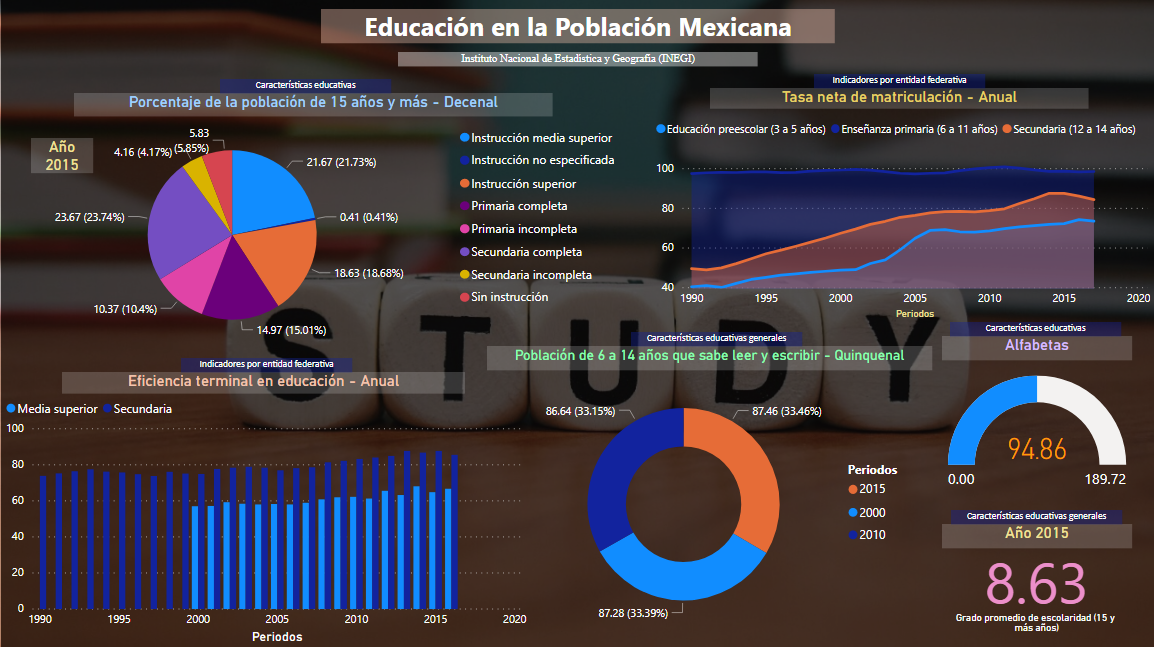

The dashboard page shown, as its layout file describes it:
{"tool":"powerbi","page":{"name":"Educacion","canvas":[1280,720],"ordinal":0},"visuals":[{"type":"textbox","title":"Porcentaje de la población de 15 años y más - Decenal","box":[81,104.3,531.4,25.5],"z":0},{"type":"textbox","title":"Instituto Nacional de Estadística y Geografía (INEGI)","box":[440.4,58.8,399.4,15.5],"z":1000},{"type":"textbox","title":"Tasa neta de matriculación - Anual","box":[786.6,98.7,420.5,23.3],"z":2000},{"type":"areaChart","fields":{"Category":["3.Periodos"],"Y":["Sum(3.Educación preescolar (3 a 5 años))","Sum(3.Enseñanza primaria (6 a 11 años))","Sum(3.Secundaria (12 a 14 años))"]},"box":[721.1,124.3,559.1,235.2],"z":3000},{"type":"donutChart","fields":{"Category":["4.Periodos"],"Y":["Sum(4.Población)"]},"box":[570.2,400.5,448.2,319.5],"z":4000},{"type":"textbox","title":"Población de 6 a 14 años que sabe leer y escribir - Quinquenal","box":[539.2,385,493.7,26.6],"z":5000},{"type":"gauge","fields":{"Y":["Sum(1.Alfabetas)"]},"box":[1018.4,412.7,261.8,139.8],"z":6000},{"type":"textbox","title":"Alfabetas","box":[1043.9,373.9,210.8,26.6],"z":7000},{"type":"pieChart","fields":{"Y":["Sum(2.Instrucción media superior)","Sum(2.Instrucción no especificada)","Sum(2.Instrucción superior)","Sum(2.Primaria completa)","Sum(2.Primaria incompleta)","Sum(2.Secundaria completa)","Sum(2.Secundaria incompleta)","Sum(2.Sin instrucción)"]},"box":[0,135.3,694.5,252.9],"z":8000},{"type":"lineClusteredColumnComboChart","fields":{"Y":["Sum(5.Eficiencia terminal en educación media superior - Anual)","Sum(5.Eficiencia terminal en secundaria - Anual)"],"Category":["5.Periodos"]},"box":[0,433.8,589.1,286.2],"z":9000},{"type":"textbox","title":"Eficiencia terminal en educación - Anual","box":[67.7,413.8,447.1,24.4],"z":10000},{"type":"card","fields":{"Values":["Sum(6.Grado promedio de escolaridad (15 y más años))"]},"box":[1043.9,576.9,209.7,143.1],"z":11000},{"type":"textbox","title":"Año 2015","box":[1043.9,582.4,210.8,26.6],"z":12000},{"type":"textbox","title":"Educación en la Población Mexicana","box":[355,11.1,570.2,37.7],"z":13000},{"type":"textbox","title":"Año 2015","box":[33.3,154.2,68.8,38.8],"z":14000},{"type":"textbox","title":"Indicadores por entidad federativa","box":[901.9,83.2,189.7,15.5],"z":15000},{"type":"textbox","title":"Características educativas","box":[243,88.8,189.7,15.5],"z":16000},{"type":"textbox","title":"Características educativas generales","box":[1053.9,566.9,189.7,15.5],"z":17000},{"type":"textbox","title":"Características educativas generales","box":[698.9,369.4,189.7,15.5],"z":18000},{"type":"textbox","title":"Características educativas","box":[1052.8,358.3,189.7,15.5],"z":19000},{"type":"textbox","title":"Indicadores por entidad federativa","box":[199.7,398.3,189.7,15.5],"z":20000}]}

Visuals, with their boxes in screenshot pixels (x1, y1, x2, y2), scaled from the page's 1280x720 canvas onto the 1154x647 screenshot:
"Porcentaje de la población de 15 años y más - Decenal" textbox: [73,94,552,117]
"Instituto Nacional de Estadística y Geografía (INEGI)" textbox: [397,53,757,67]
"Tasa neta de matriculación - Anual" textbox: [709,89,1088,110]
areaChart - 3.Periodos x Sum(3.Educación preescolar (3 a 5 años)): [650,112,1153,323]
donutChart - 4.Periodos x Sum(4.Población): [514,360,918,646]
"Población de 6 a 14 años que sabe leer y escribir - Quinquenal" textbox: [486,346,931,370]
gauge - Sum(1.Alfabetas): [918,371,1153,496]
"Alfabetas" textbox: [941,336,1131,360]
pieChart - Sum(2.Instrucción media superior) x Sum(2.Instrucción no especificada): [0,122,626,349]
lineClusteredColumnComboChart - Sum(5.Eficiencia terminal en educación media superior - Anual) x Sum(5.Eficiencia terminal en secundaria - Anual): [0,390,531,646]
"Eficiencia terminal en educación - Anual" textbox: [61,372,464,394]
card - Sum(6.Grado promedio de escolaridad (15 y más años)): [941,518,1130,646]
"Año 2015" textbox: [941,523,1131,547]
"Educación en la Población Mexicana" textbox: [320,10,834,44]
"Año 2015" textbox: [30,139,92,173]
"Indicadores por entidad federativa" textbox: [813,75,984,89]
"Características educativas" textbox: [219,80,390,94]
"Características educativas generales" textbox: [950,509,1121,523]
"Características educativas generales" textbox: [630,332,801,346]
"Características educativas" textbox: [949,322,1120,336]
"Indicadores por entidad federativa" textbox: [180,358,351,372]
